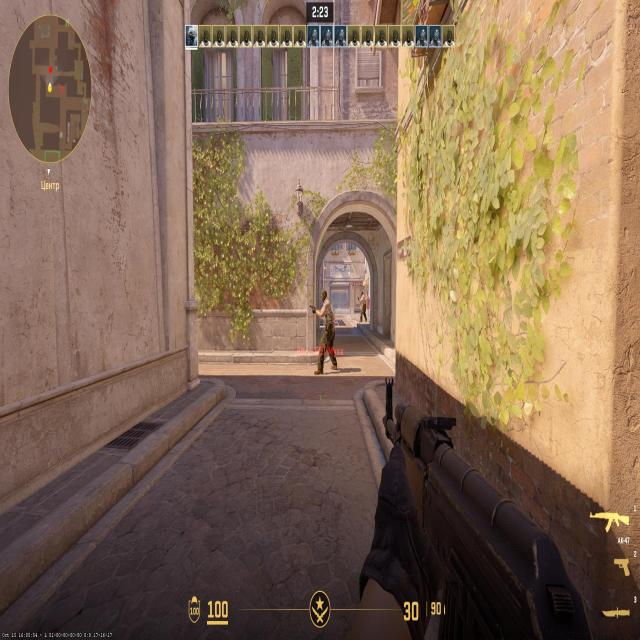T: (320, 289, 333, 371), (362, 290, 366, 320)
T_heat: (322, 290, 327, 302), (363, 292, 364, 299)
